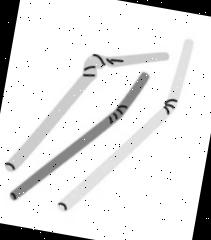general: (3, 72, 157, 205)
